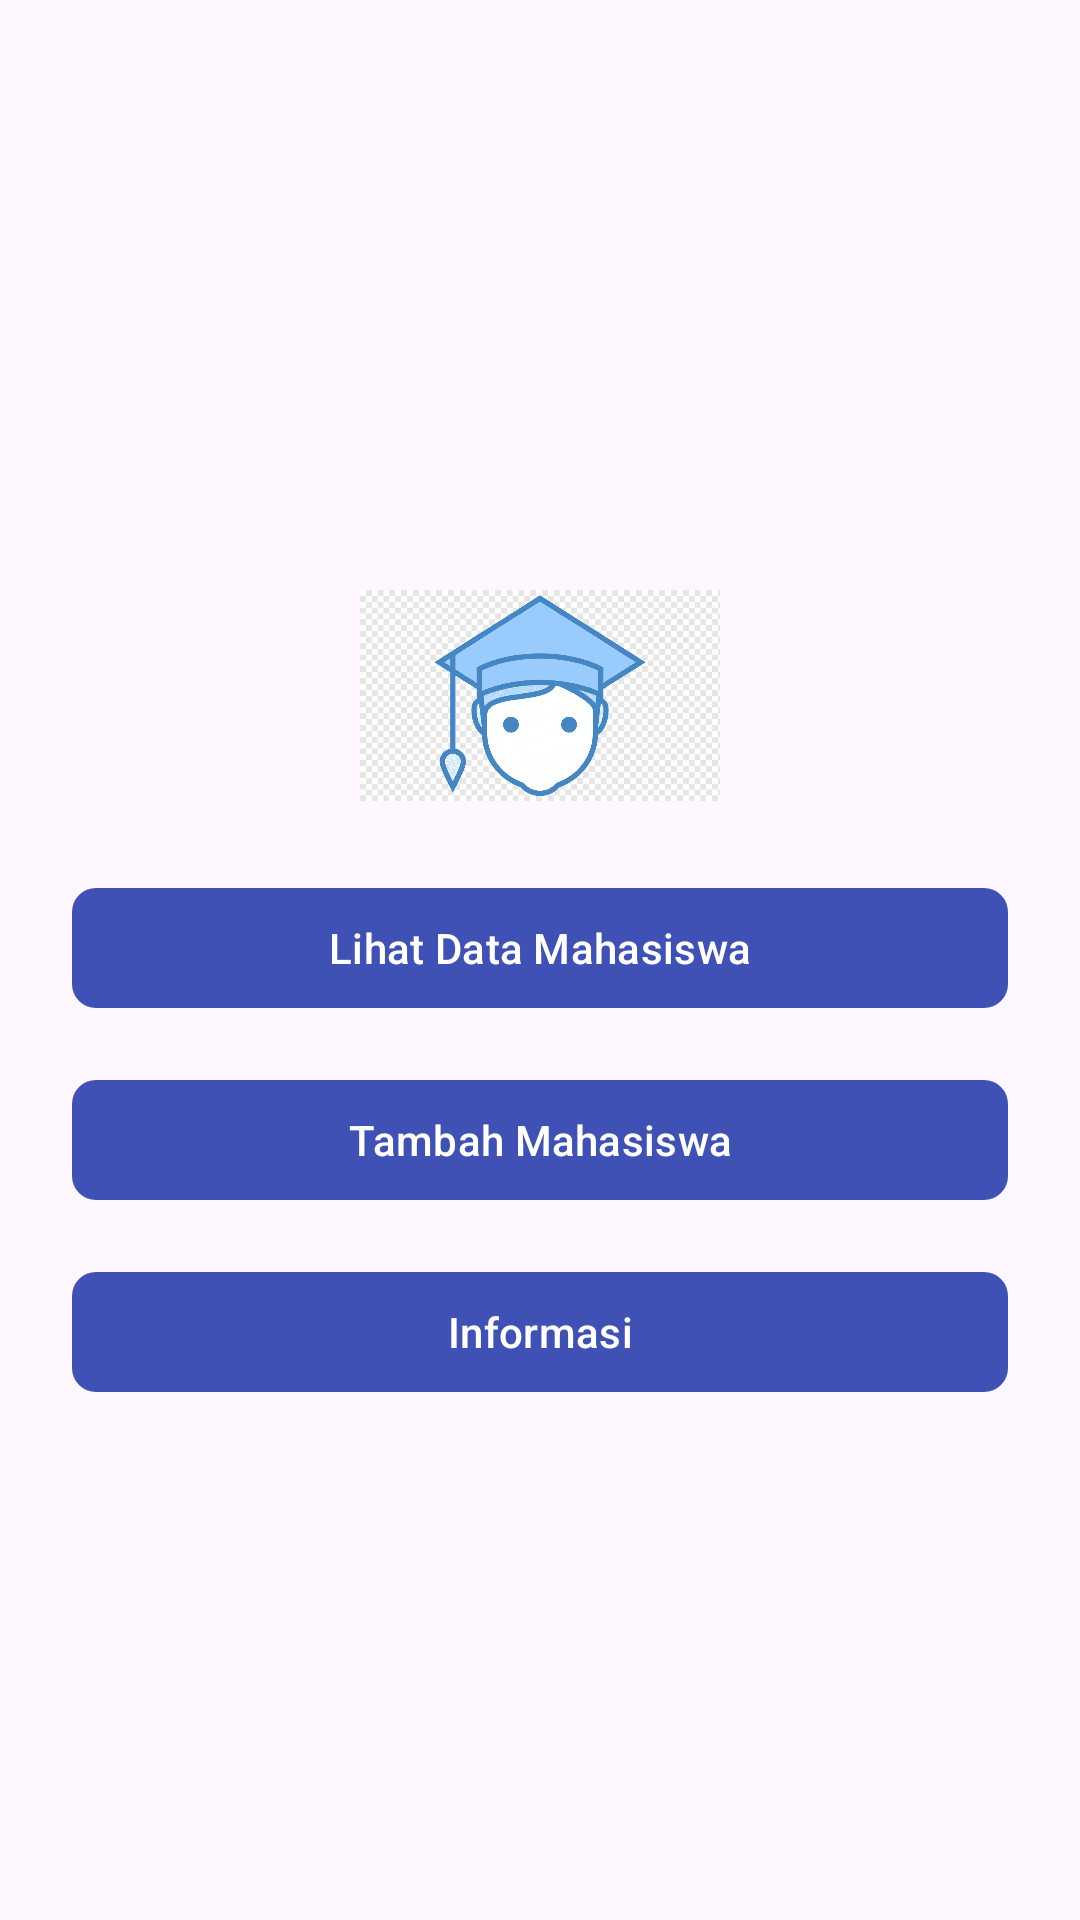

Screen size 1080 × 1920. Icon name, then its center in pixels as [x,y]:
profile: [540,695]
